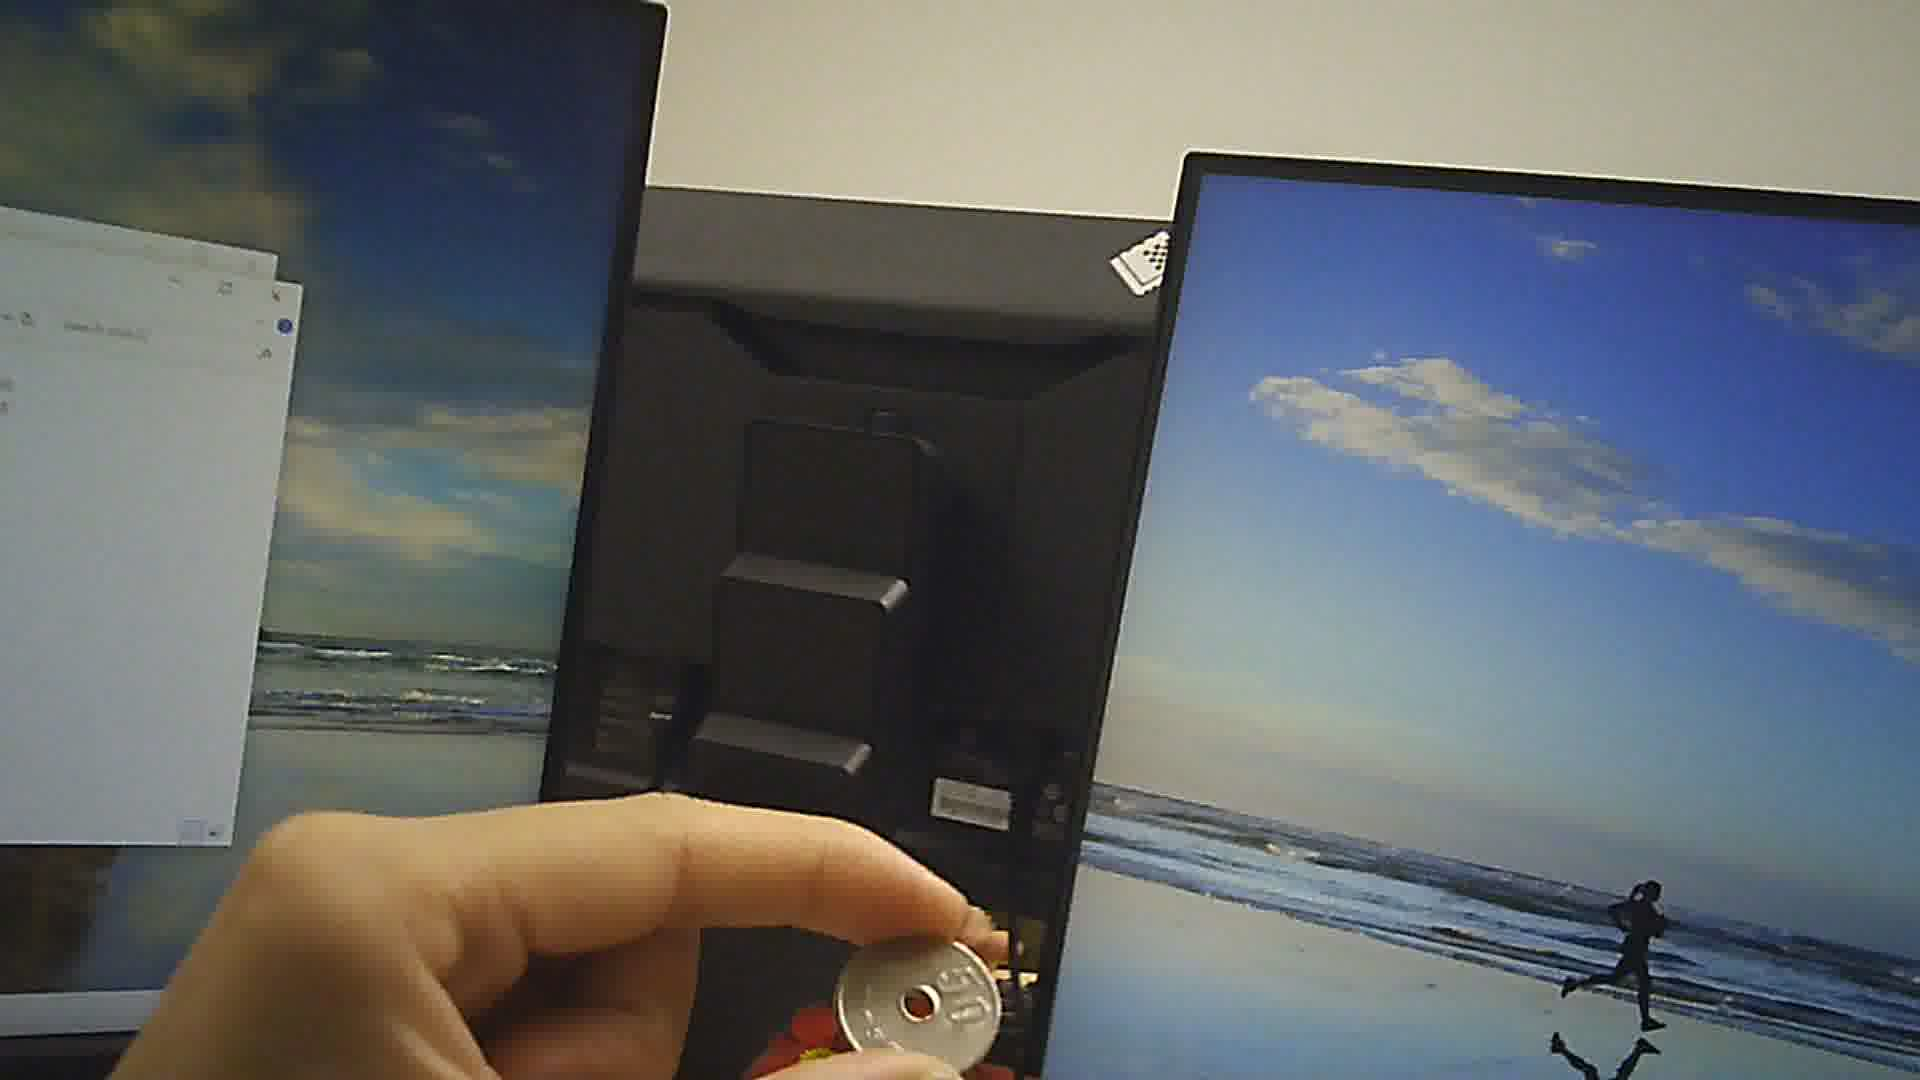50 Yen: (827, 928, 1018, 1068)
